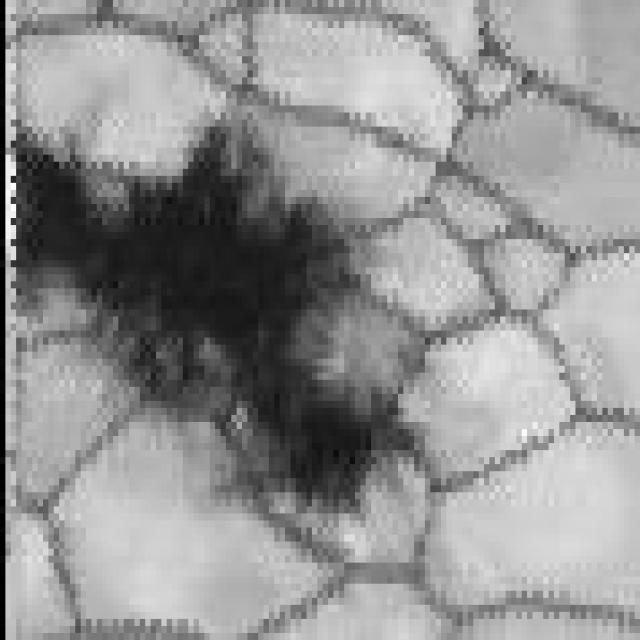good_void: (9, 73, 440, 530)
